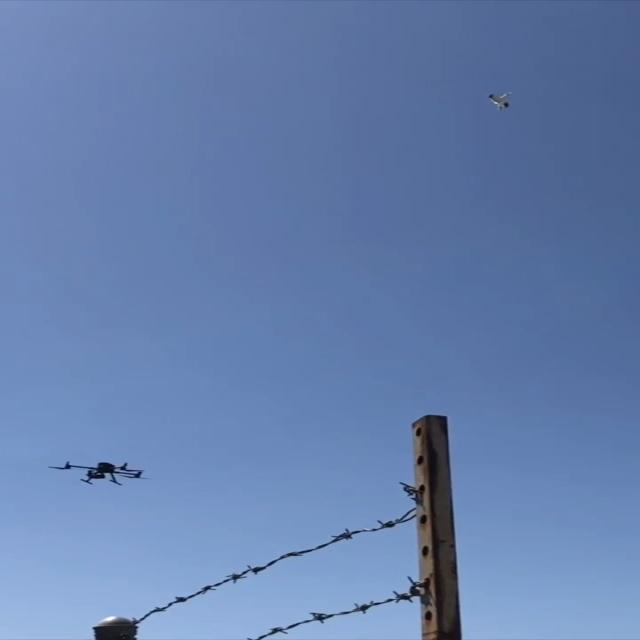bird: (487, 92, 511, 110)
drone: (47, 460, 146, 486)
